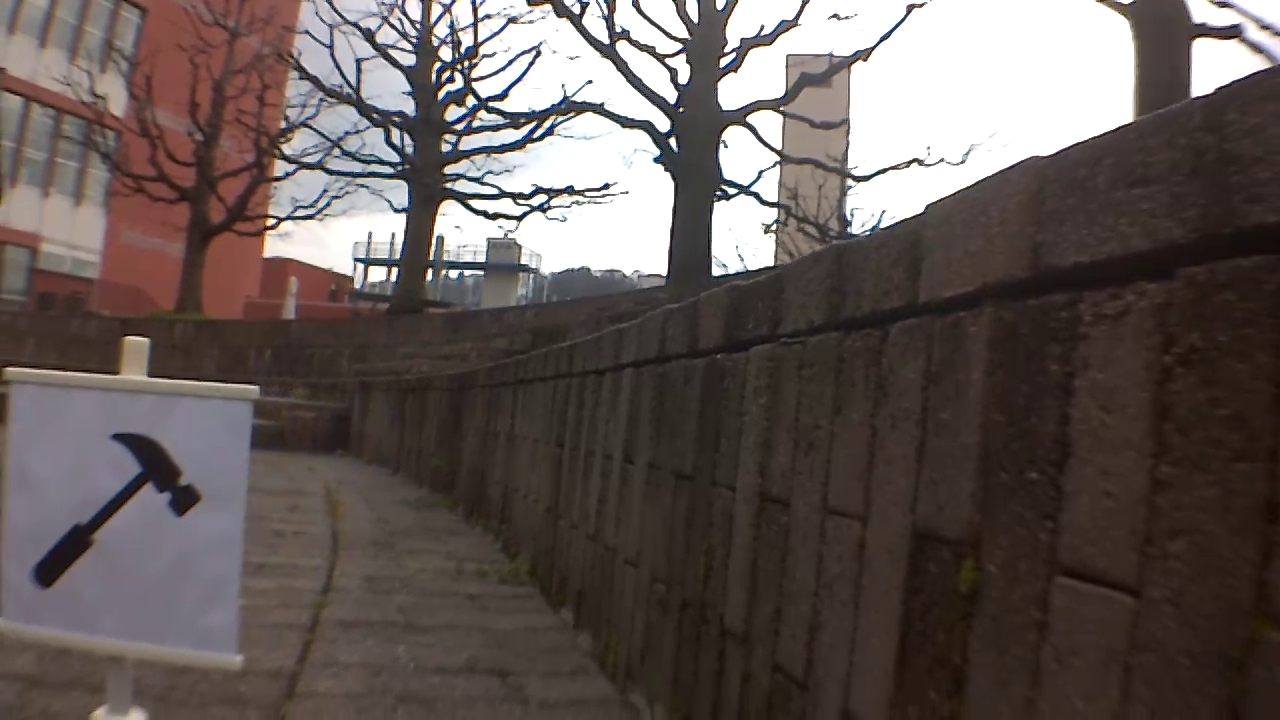hammer: (30, 420, 210, 584)
